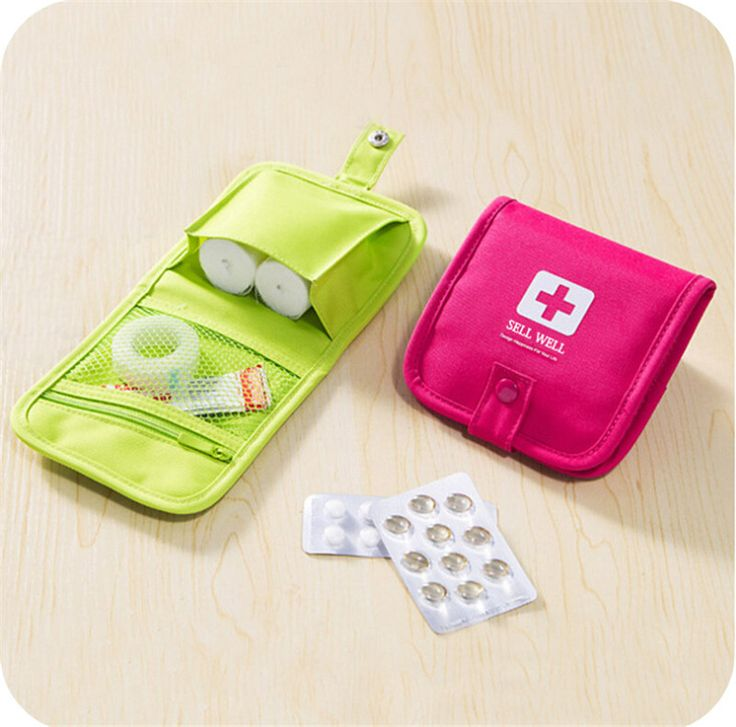nylon: (10, 118, 717, 519)
